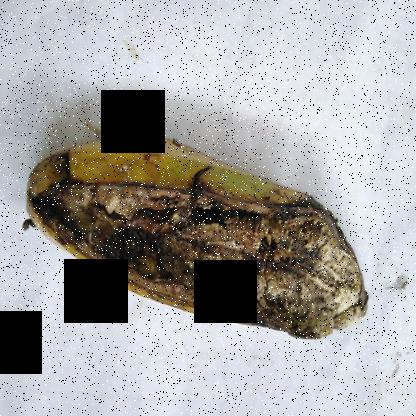rotten: (21, 124, 376, 353)
